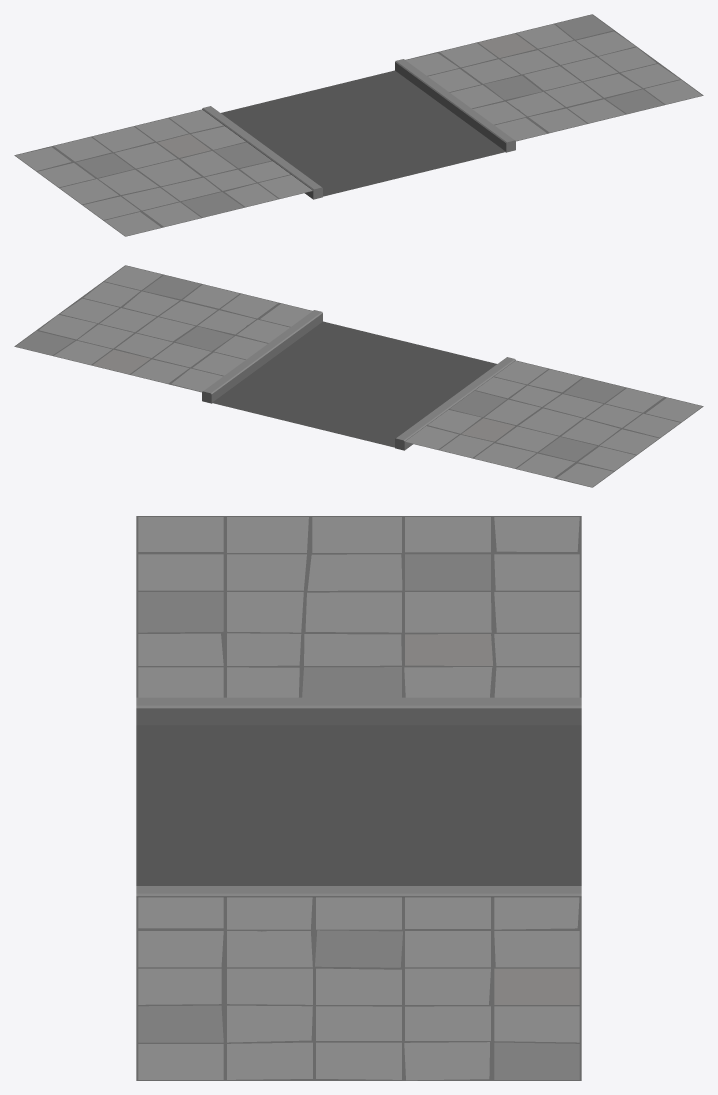
File: Road_07.glb
3 views of the same model, one above another, from view 1: azimuth 30°, elevation 25°; view 2: azimuth 150°, elevation 25°; view 3: azimuth 270°, elevation 25° (orthographic). The views are drawn at different scales.
Visible parts, largest first — view 1: Road_07; view 2: Road_07; view 3: Road_07.
Boxes of the visible parts, x1=… form: Road_07: x1=14, y1=14, x2=703, y2=236; Road_07: x1=14, y1=265, x2=703, y2=487; Road_07: x1=136, y1=516, x2=581, y2=1080.
Bounding box in the file's own units: 9 × 0.15 × 3.
Materials: 1 (1 with a texture image).
